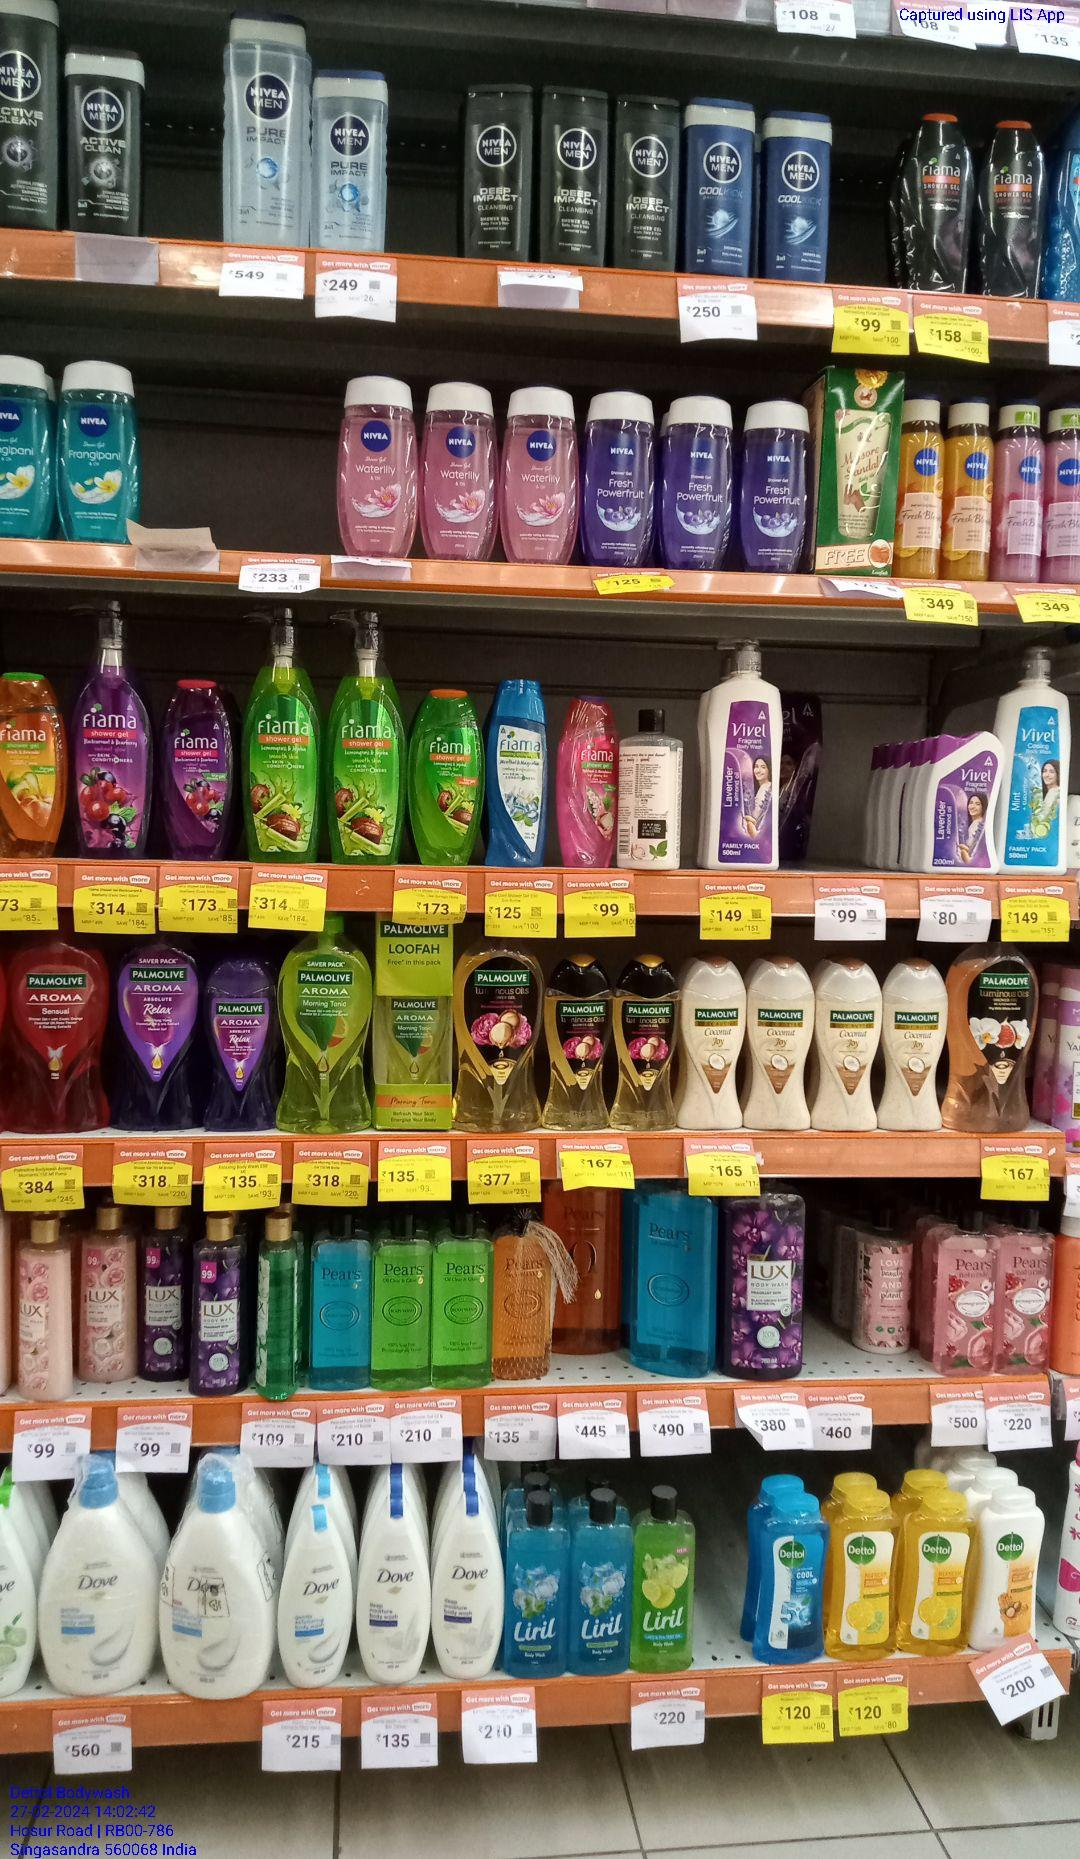Dettol_Bodywash_Cool: (762, 1498, 825, 1667)
Dettol_Bodywash_Refresh: (905, 1498, 968, 1661), (837, 1491, 896, 1665)
Dettol_Nourish_Body_Wash_250ML: (977, 1487, 1043, 1647)
Dove_Deep_Moisture_Body_Wash_250ML: (361, 1503, 427, 1691), (435, 1494, 500, 1679)
Dove_Gentle_Exfoliating_Body_Wash_250ML: (280, 1505, 352, 1687)
Fiama_Shower_Gel_Lemongrass_and_Jojoba_250ML: (411, 684, 483, 868)
Fiama_Shower_Gel_Patchouli_and_Macadamia_250ML: (559, 690, 616, 869)
Fiama_Shower_Gel_Peach_and_Avocado_250ML: (0, 671, 69, 861)
Liril_Cooling_Mint_Body_Wash_250ML: (507, 1498, 567, 1679), (576, 1498, 634, 1679)
Liril_Lime_and_Tea_Tree_Oil_Body_Wash_250ML: (640, 1487, 693, 1676)
Lux_Black_Orchid_Scent_and_Juniper_Oil_Body_Wash_245ML: (190, 1211, 246, 1400), (140, 1205, 190, 1381)
Nivea_Shower_Gel_Frangipani_and_Oil_250ML: (55, 355, 140, 545), (0, 350, 51, 540)
Nivea_Shower_Gel_Fresh_Powerfruit_250ML: (666, 391, 734, 571), (585, 382, 651, 564), (748, 388, 809, 575)
Nivea_Shower_Gel_Waterlily_and_Oil_250ML: (336, 372, 415, 558), (424, 379, 495, 564), (505, 381, 575, 564)
Palmolive_Aroma_Relax_250ML: (204, 954, 279, 1133)
Palmolive_Coconut_Joy_Exfoliating_Body_Wash_250ML: (816, 954, 882, 1135), (886, 950, 948, 1133), (751, 959, 813, 1133), (683, 960, 743, 1136)
Palmolive_Luminous_Oils_Invigorating_Macadamia_Oil_With_Peony_250ML: (546, 954, 613, 1131), (617, 950, 678, 1134)
Pears_Pure_Glycerin_and_Lemon_Flower_Extracts_Body_Wash_250ML: (436, 1211, 496, 1391), (375, 1208, 432, 1397)
Pears_Pure_Glycerin_and_Mint_Extracts_Body_Wash_250ML: (307, 1212, 374, 1395)
